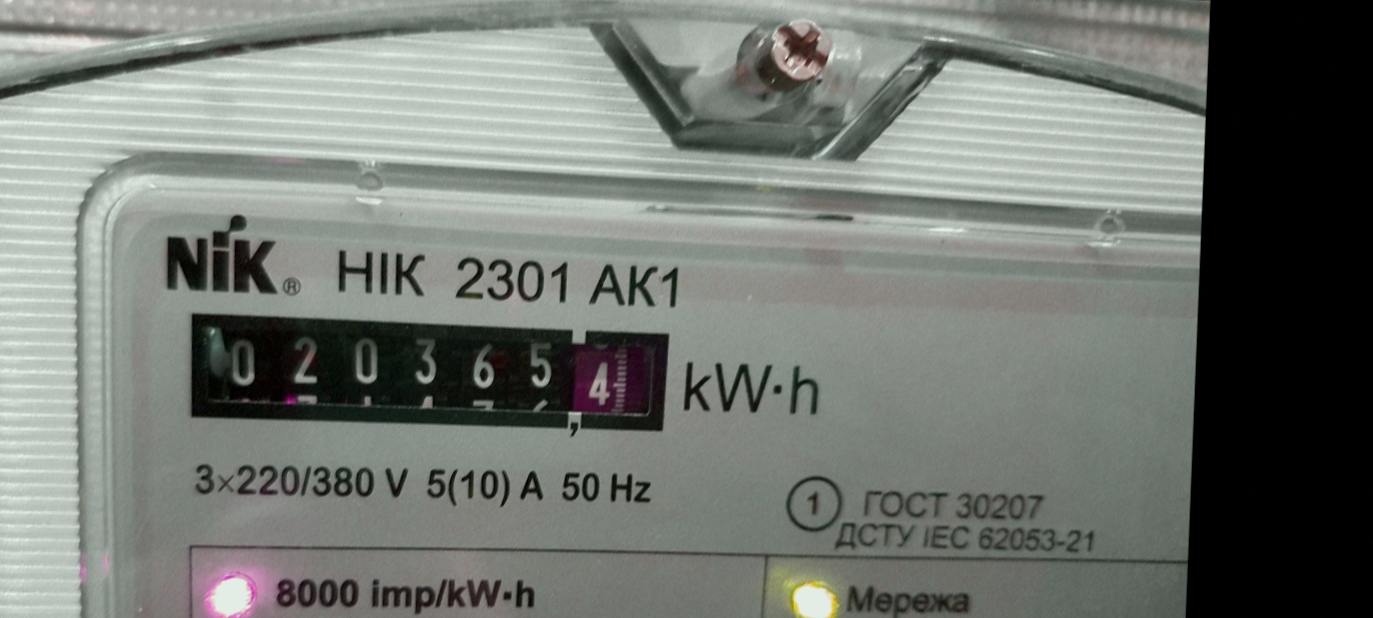0: (225, 333, 260, 389), (351, 335, 382, 385)
2: (289, 333, 321, 385)
3: (410, 335, 441, 386)
4: (586, 357, 611, 406)
5: (527, 340, 555, 388)
6: (469, 338, 497, 389)
screen: (173, 294, 685, 452)
